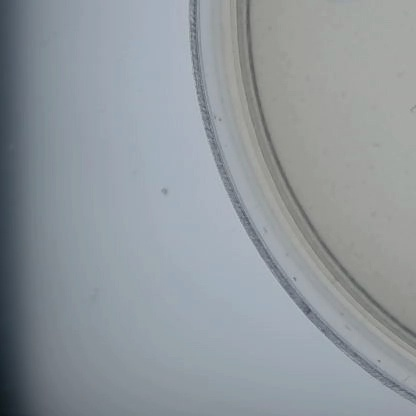worm: (407, 97, 416, 116)
